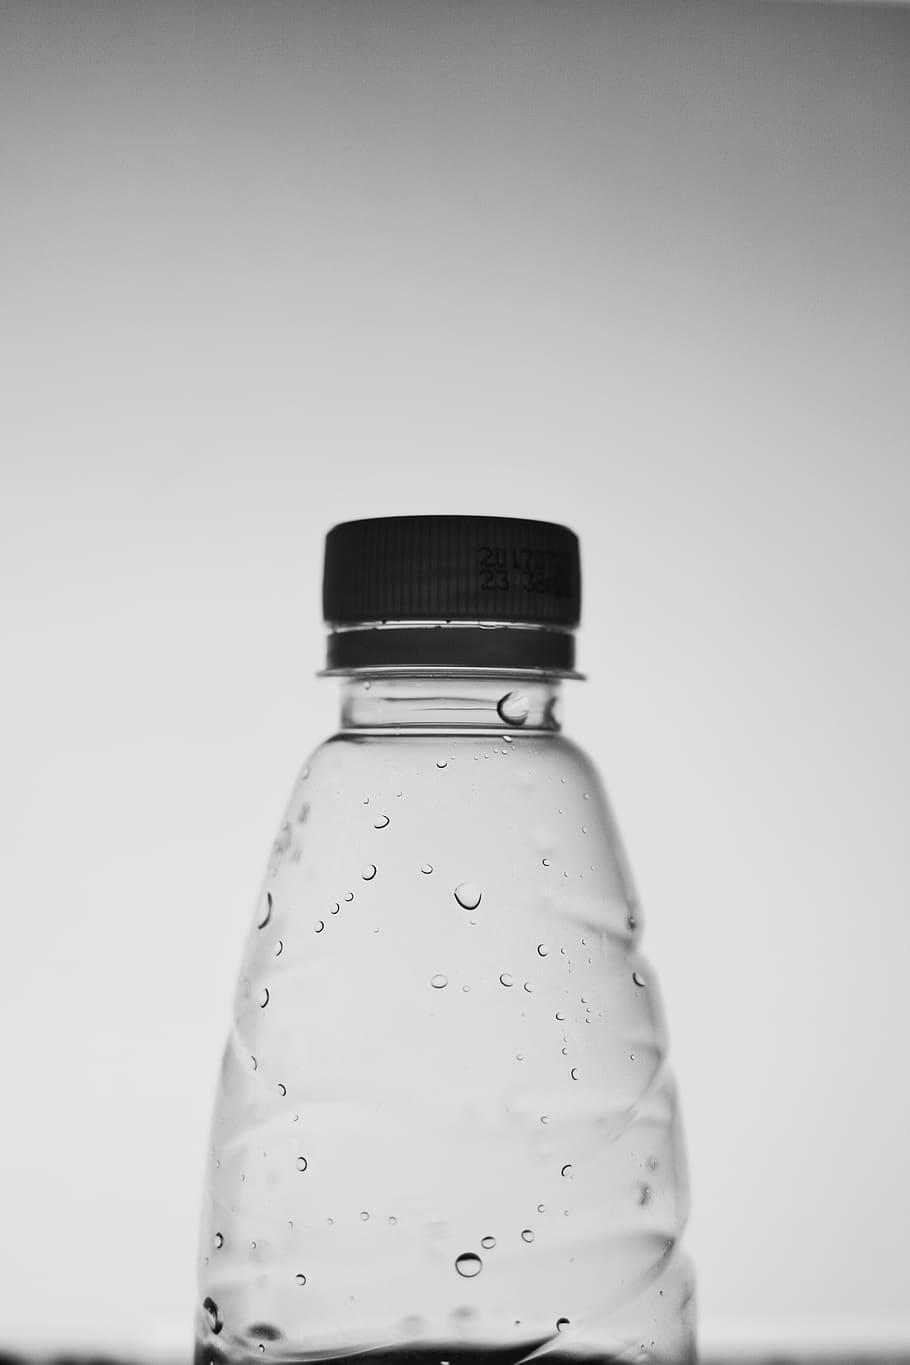bottle: (168, 431, 751, 1365)
